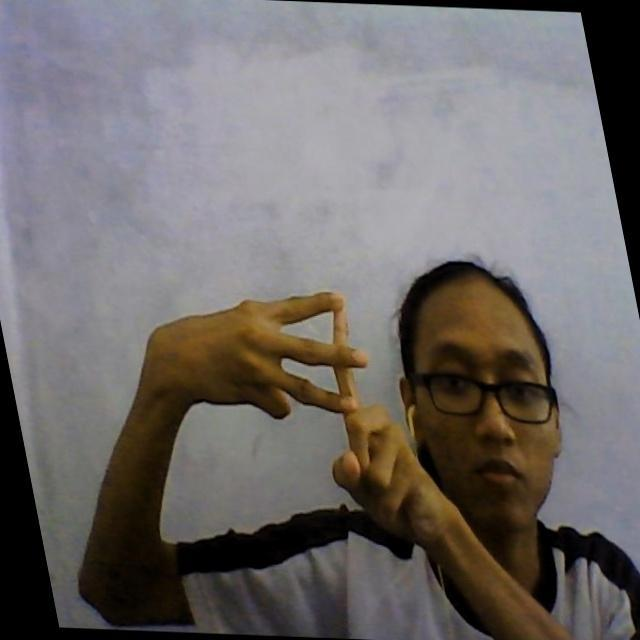B: (205, 286, 396, 502)
